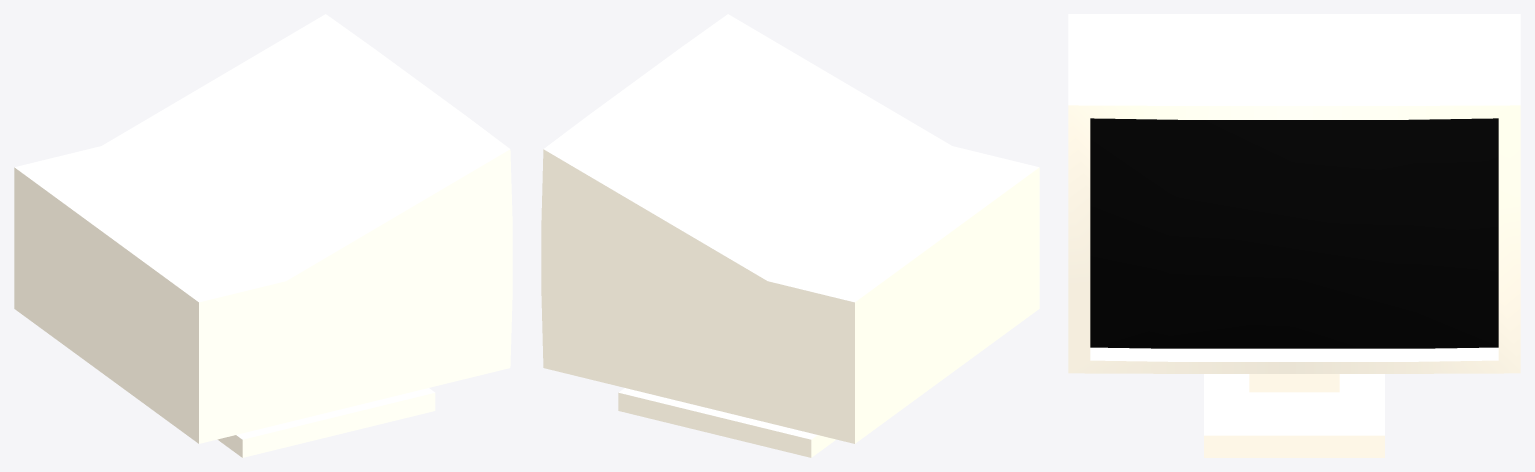
The model's file is Monitor.fbx.
3 renders of one model, left to right at view 1: azimuth 30°, elevation 25°; view 2: azimuth 150°, elevation 25°; view 3: azimuth 270°, elevation 25°, orthographic. The views are drawn at different scales.
Parts seen in each view (by area): view 1: Monitor; view 2: Monitor; view 3: Monitor.
Boxes of the visible parts, x1,y1,x2,y2 form: Monitor: [14, 14, 512, 457]; Monitor: [541, 14, 1039, 457]; Monitor: [1068, 14, 1520, 457].
Bounding box in the file's own units: 89.01 × 80 × 90.
